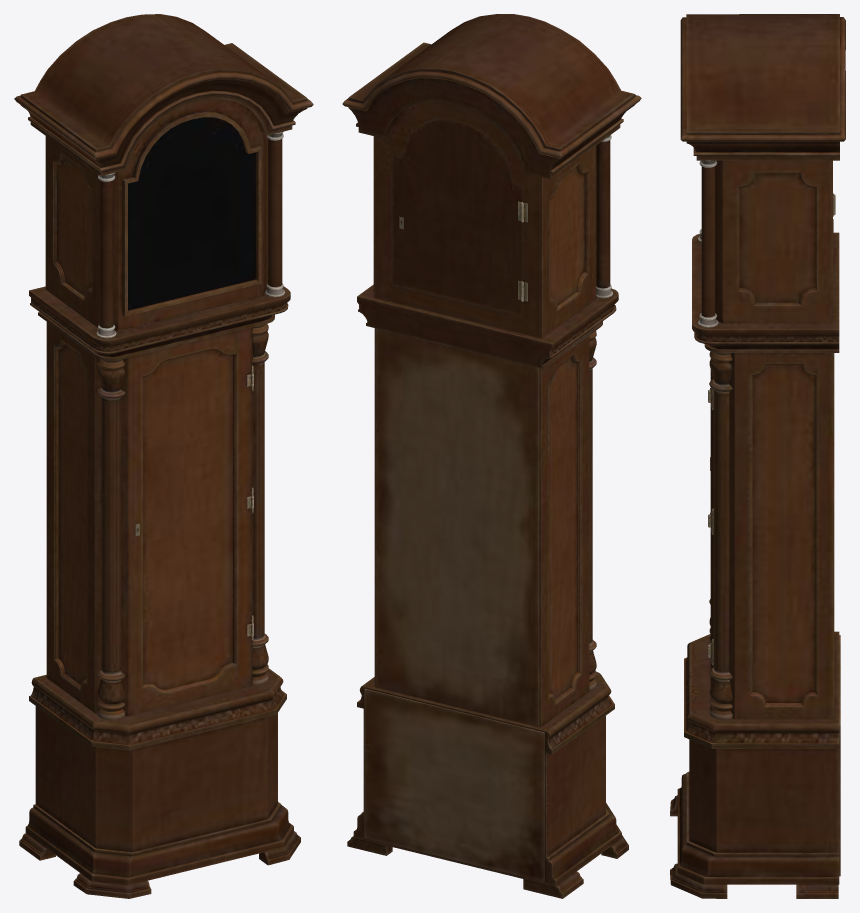
3 renders of one model, left to right at view 1: azimuth 30°, elevation 25°; view 2: azimuth 150°, elevation 25°; view 3: azimuth 270°, elevation 25°, orthographic. The views are drawn at different scales.
Parts seen in each view (by area): view 1: vintage_grandfather_clock_01_body; view 2: vintage_grandfather_clock_01_body; view 3: vintage_grandfather_clock_01_body.
Part boxes in pixels (bbox=[...]): vintage_grandfather_clock_01_body: bbox=[14, 14, 313, 898]; vintage_grandfather_clock_01_body: bbox=[342, 14, 641, 898]; vintage_grandfather_clock_01_body: bbox=[670, 14, 845, 898].
Bounding box in the file's own units: 0.6256 × 2.19 × 0.4266.
Materials: 2 (2 with a texture image).
